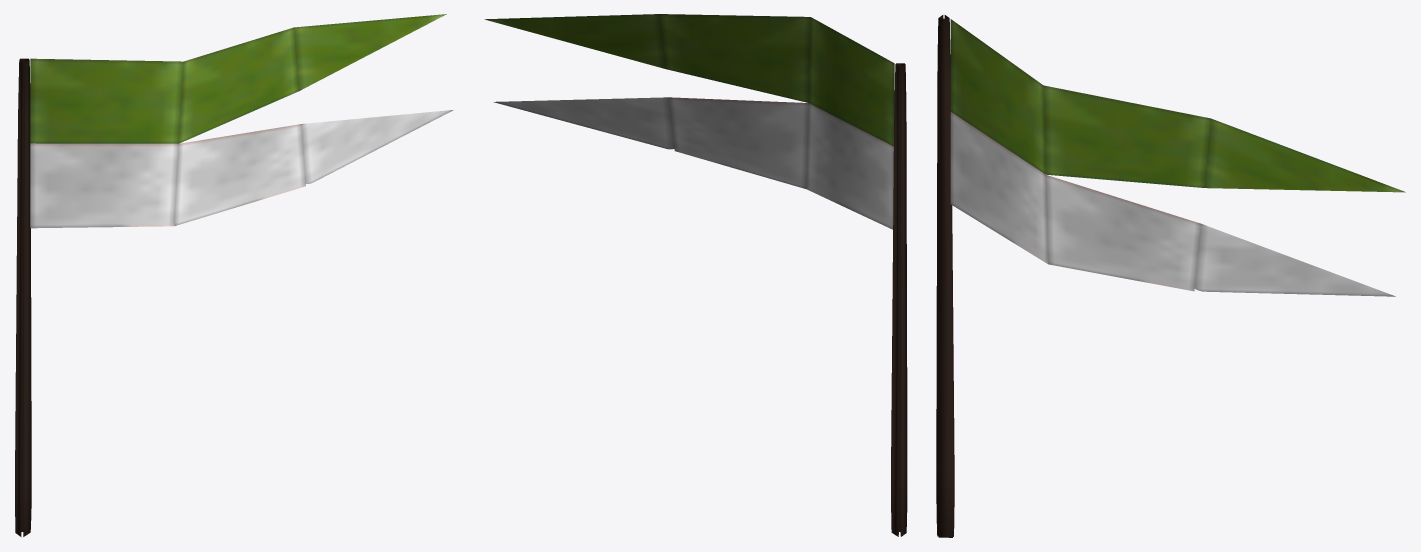
The picture shows the model from 3 angles, left to right: view 1: azimuth 30°, elevation 25°; view 2: azimuth 150°, elevation 25°; view 3: azimuth 330°, elevation 25°; orthographic projection. The views are drawn at different scales.
Visible parts, largest first — view 1: T1L3M007_17; view 2: T1L3M007_17; view 3: T1L3M007_17.
Part boxes in pixels (<box>): T1L3M007_17: <box>15,14,453,536</box>; T1L3M007_17: <box>484,14,907,536</box>; T1L3M007_17: <box>936,15,1405,537</box>.
Bounding box in the file's own units: 1.73 × 1.83 × 0.2752.
